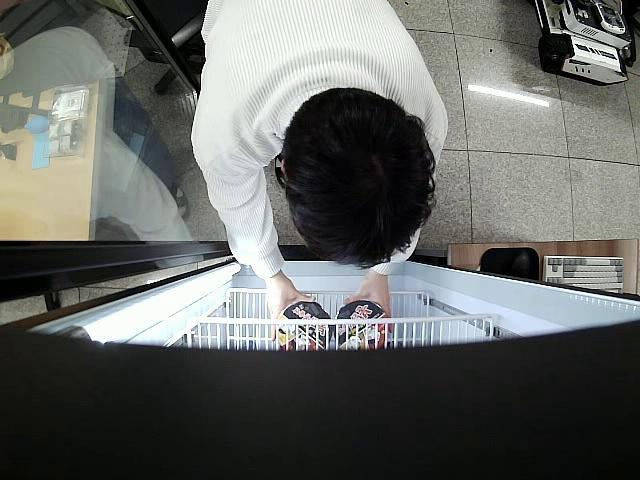07_buldak_L: (333, 301, 390, 353), (274, 303, 333, 353)
